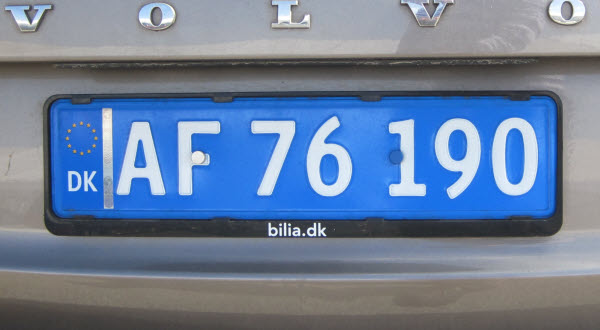license_plate: (51, 98, 556, 221)
